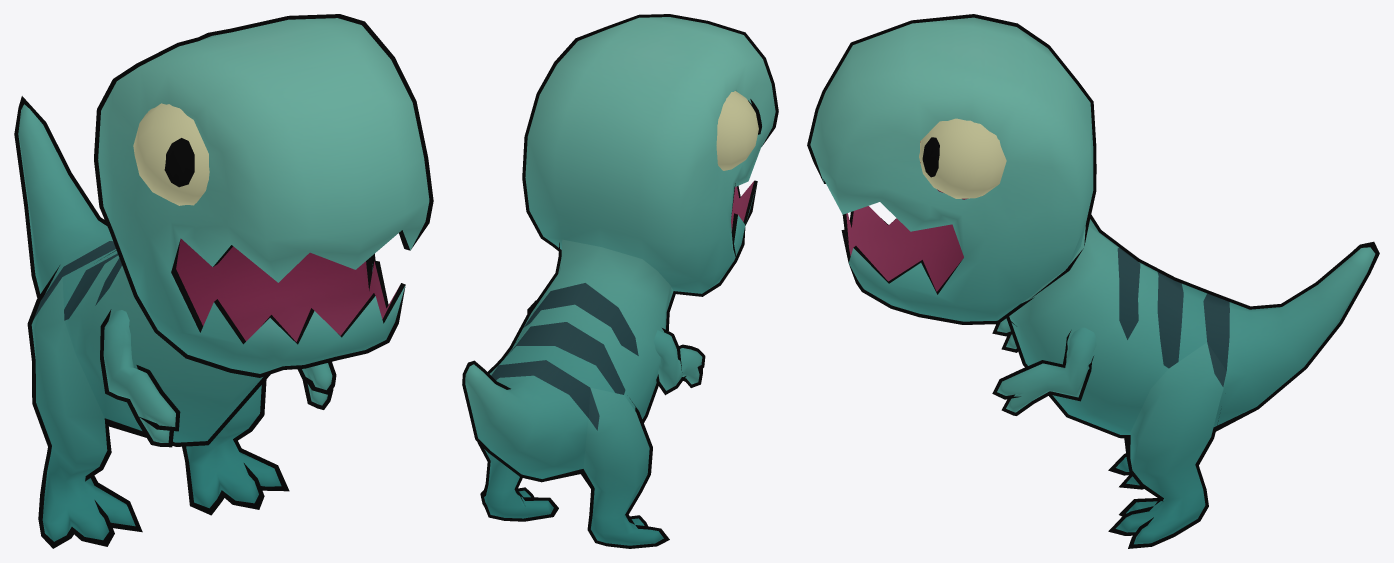
File: baby_dino.glb
3 views of the same model, side by side, from view 1: azimuth 30°, elevation 25°; view 2: azimuth 150°, elevation 25°; view 3: azimuth 270°, elevation 25° (orthographic). The views are drawn at different scales.
Visible parts, largest first — view 1: Cube; view 2: Cube; view 3: Cube.
Part boxes in pixels (left/top/right/bottom): Cube: left=14, top=14, right=433, bottom=548; Cube: left=462, top=14, right=778, bottom=548; Cube: left=807, top=14, right=1379, bottom=548.
Size of the model in its own units: 0.2611 by 0.5396 by 0.6086.
2 materials, 1 textured.
